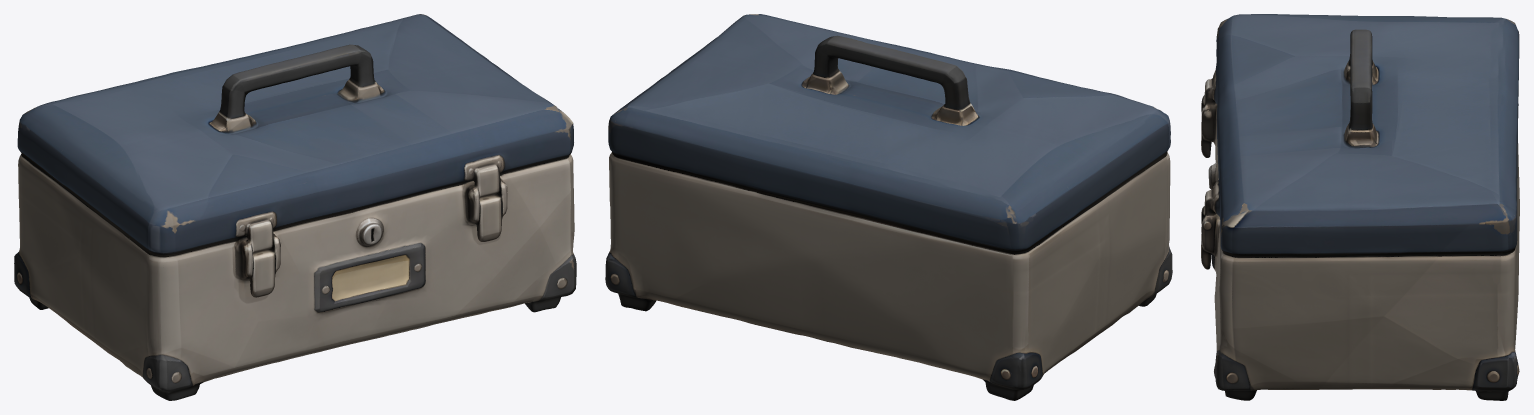
The model's file is tripo_convert_bfbea7a4-9d09-4bc1-8a9e-0b78c8b9a3d7.fbx.
The picture shows the model from 3 angles, left to right: view 1: azimuth 30°, elevation 25°; view 2: azimuth 150°, elevation 25°; view 3: azimuth 270°, elevation 25°; orthographic projection.
Parts seen in each view (by area): view 1: tripo_node_bfbea7a4; view 2: tripo_node_bfbea7a4; view 3: tripo_node_bfbea7a4.
Boxes of the visible parts, x1=… form: tripo_node_bfbea7a4: x1=14, y1=14, x2=576, y2=400; tripo_node_bfbea7a4: x1=605, y1=14, x2=1172, y2=400; tripo_node_bfbea7a4: x1=1201, y1=14, x2=1519, y2=400.
Size of the model in its own units: 97.83 by 63.28 by 54.26.
1 material, 1 textured.
